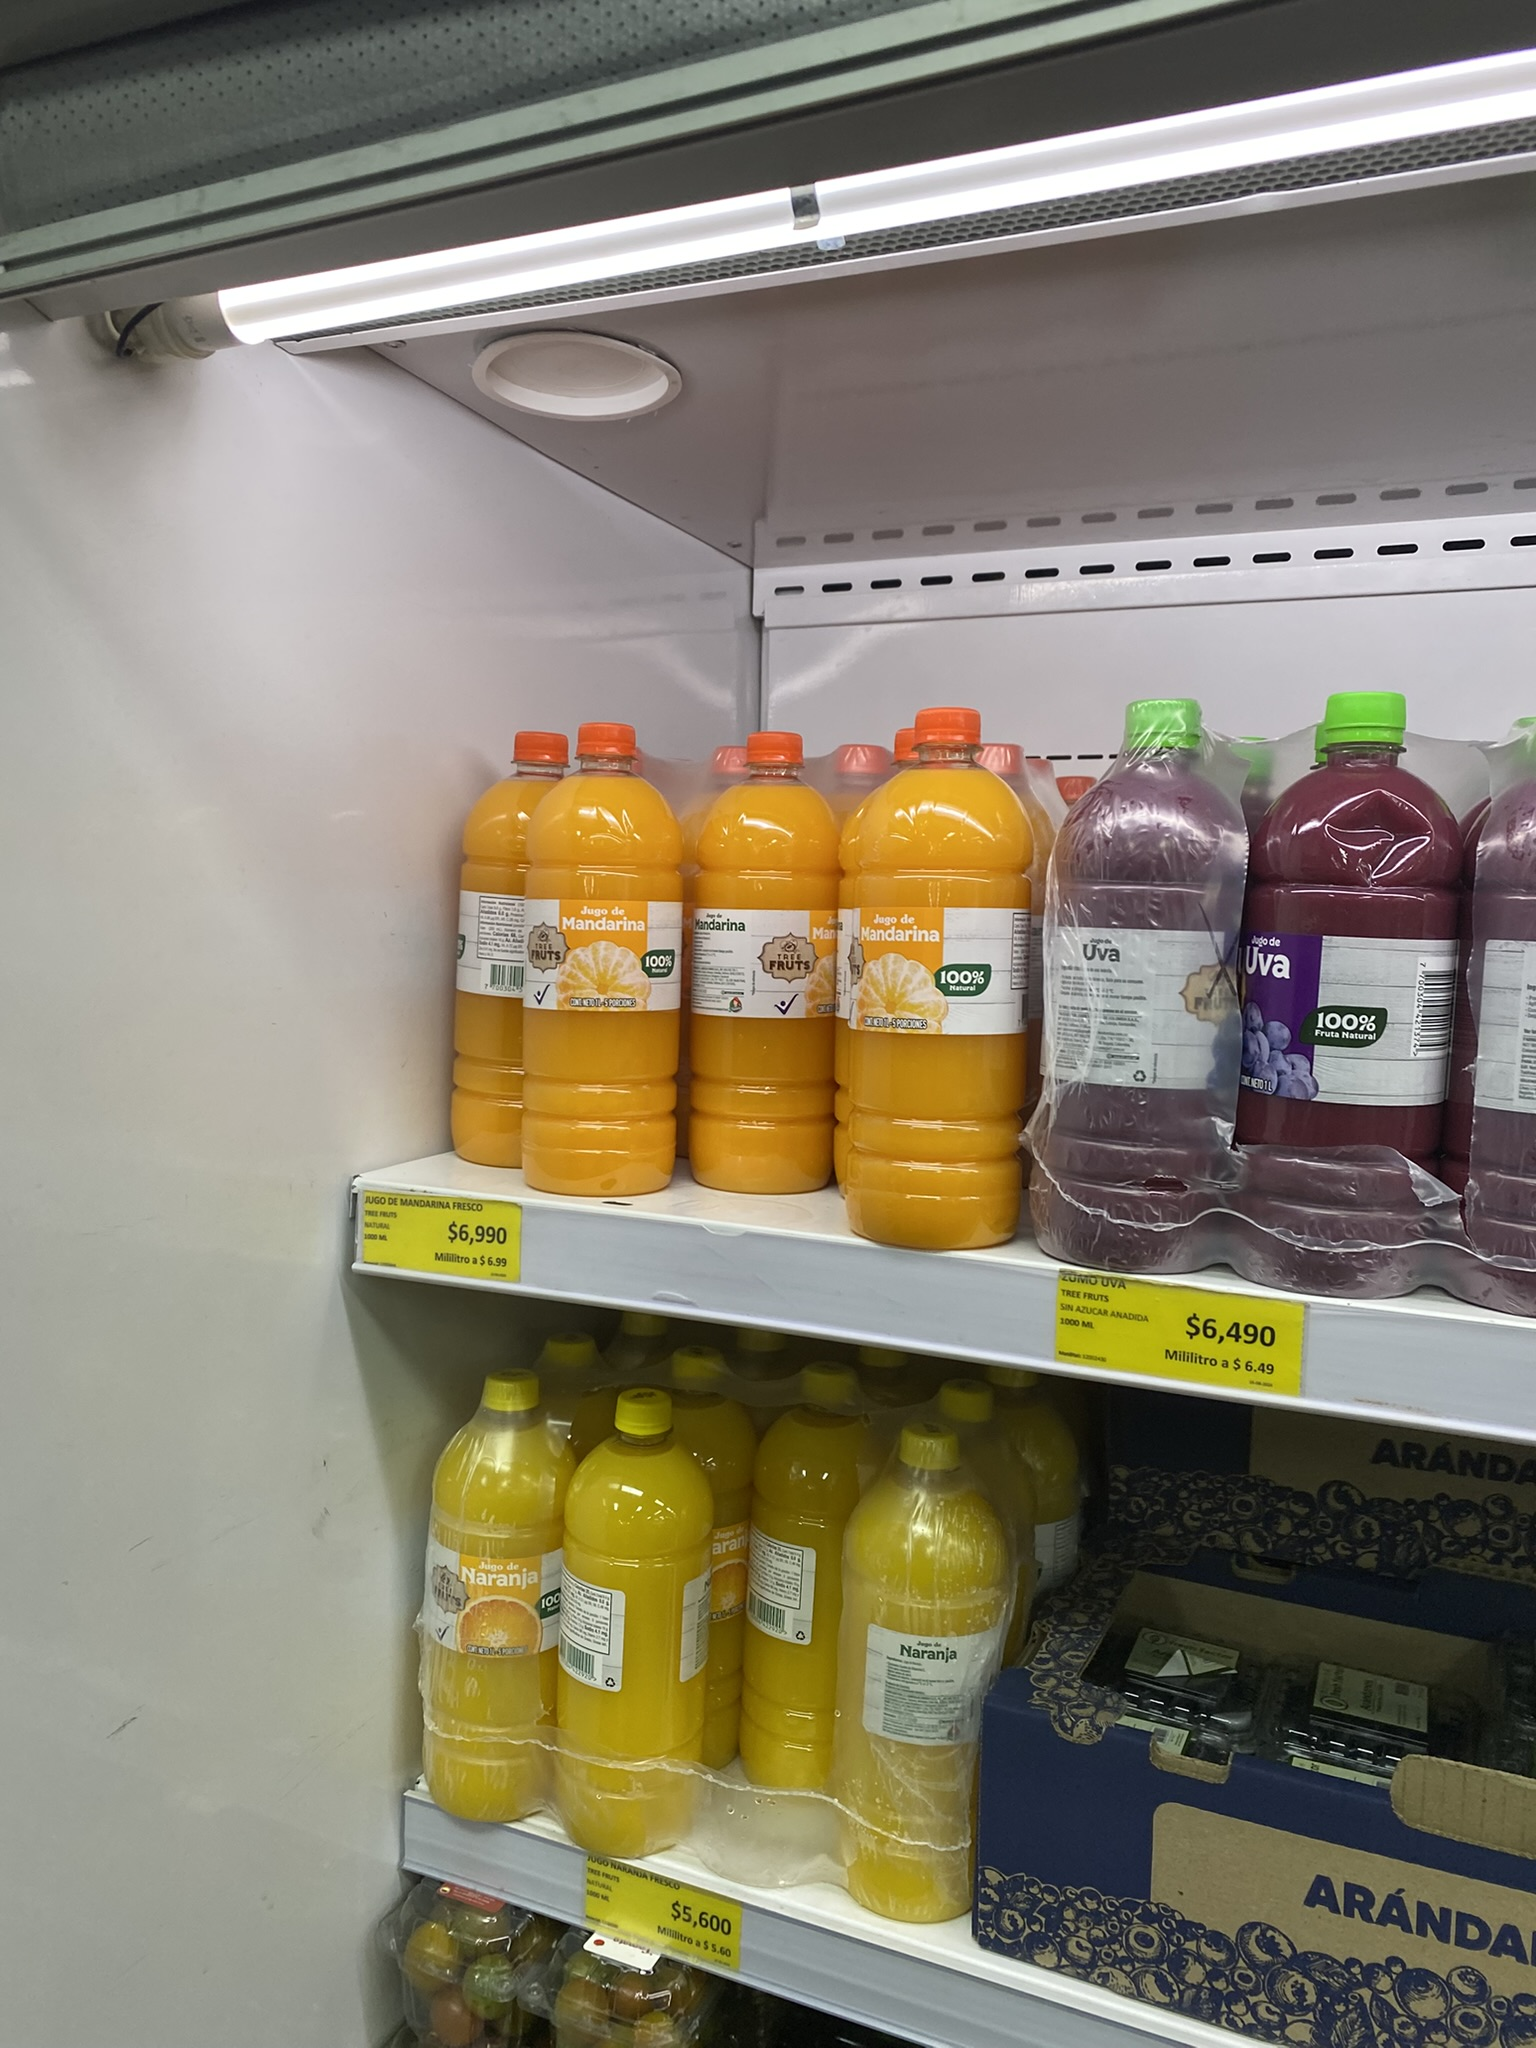Jugo de Mandarina: (842, 710, 1052, 1235), (676, 734, 845, 1195), (524, 718, 686, 1190), (470, 726, 565, 1174)
